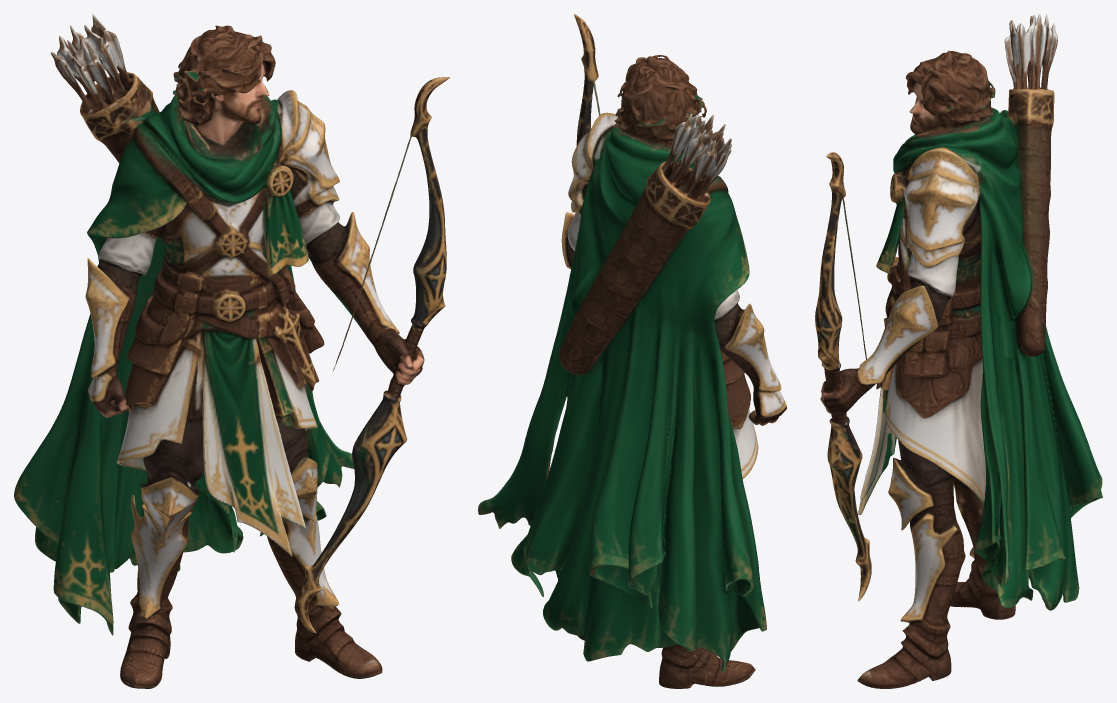
Rendered from green-archer.glb.
3 views of the same model, side by side, from view 1: azimuth 30°, elevation 25°; view 2: azimuth 150°, elevation 25°; view 3: azimuth 270°, elevation 25° (orthographic). The views are drawn at different scales.
Bounding box in the file's own units: 0.9848 × 1.9 × 0.8438.
1 material, 1 textured.
